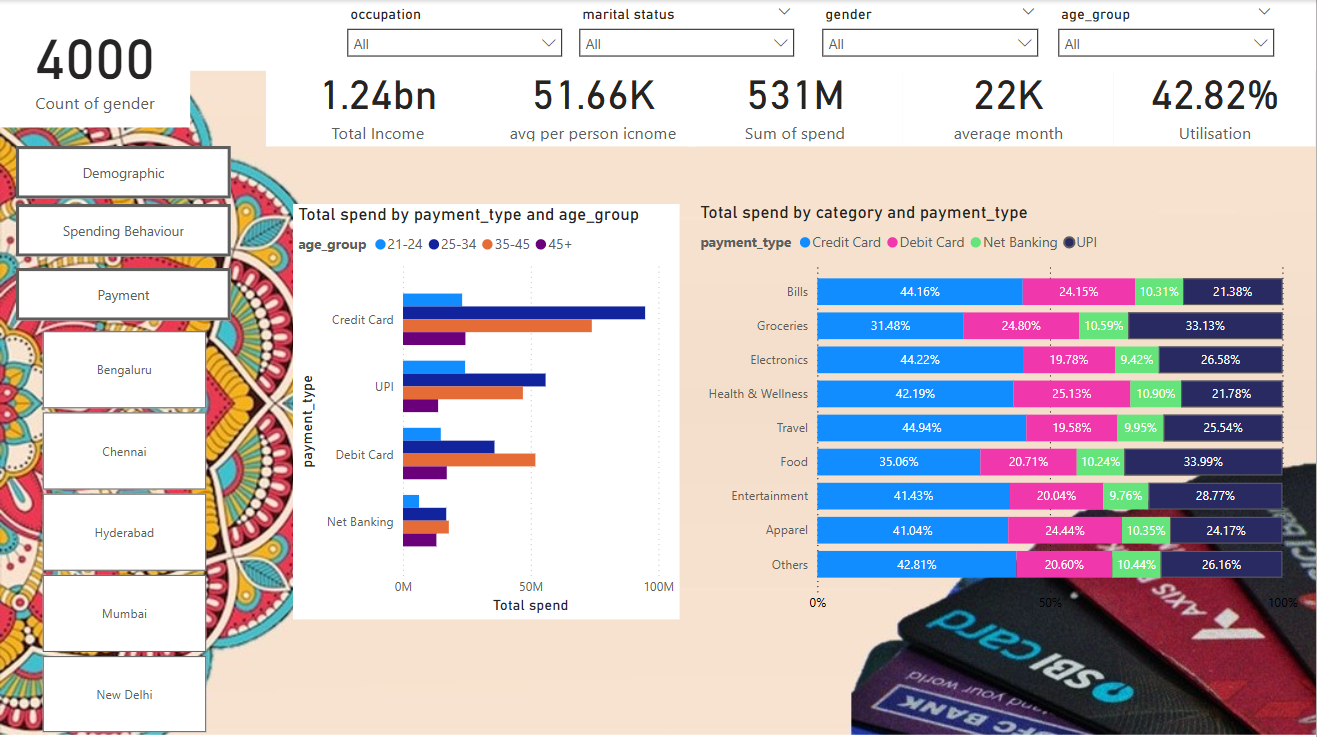

This screenshot's page, from the dashboard's own definition file:
{"tool":"powerbi","page":{"name":"Payment","canvas":[1280,720],"ordinal":2},"visuals":[{"type":"clusteredBarChart","fields":{"Category":["fact_spends.payment_type"],"Y":["merene.total spend of people"],"Series":["dim_customers.age_group"]},"box":[285,198.4,376.4,403.6],"z":14000},{"type":"hundredPercentStackedBarChart","fields":{"Category":["fact_spends.category","fact_spends.payment_type"],"Y":["merene.total spend of people"],"Series":["fact_spends.payment_type"]},"box":[676,196.5,591.4,408.5],"z":15000},{"type":"slicer","fields":{"Values":["dim_customers.city"]},"box":[15.6,315.6,208.9,404.4],"z":15001},{"type":"actionButton","box":[15.6,142.2,208.9,51.1],"z":15002},{"type":"actionButton","box":[15.6,198.9,208.9,51.1],"z":15003},{"type":"actionButton","box":[15.6,261.1,208.9,51.1],"z":15004},{"type":"card","fields":{"Values":["Sum(fact_spends.spend)"]},"box":[668.2,55.4,210.1,86.6],"z":15005},{"type":"card","fields":{"Values":["merene.avg per person icnome"]},"box":[476.6,55.4,200.4,86.6],"z":15006},{"type":"card","fields":{"Values":["merene.Total Income"]},"box":[258.7,55.4,217.9,86.6],"z":15007},{"type":"card","fields":{"Values":["merene.average month"]},"box":[878.3,55.4,205.2,86.6],"z":15008},{"type":"card","fields":{"Values":["merene.Measure"]},"box":[1083.5,55.4,196.5,86.6],"z":15009},{"type":"slicer","fields":{"Values":["dim_customers.age_group"]},"box":[1019.3,0,229.5,69.1],"z":15010},{"type":"slicer","fields":{"Values":["dim_customers.occupation"]},"box":[327.8,0,228.6,72.9],"z":15011},{"type":"slicer","fields":{"Values":["dim_customers.marital status"]},"box":[553.4,0,228.6,72.9],"z":15012},{"type":"slicer","fields":{"Values":["dim_customers.gender"]},"box":[789.8,0,229.5,69.1],"z":15013},{"type":"card","fields":{"Values":["CountNonNull(dim_customers.gender)"]},"box":[0,0,184.8,123.5],"z":15014}]}

Visuals, with their boxes in screenshot pixels (x1, y1, x2, y2), scaled from the page's 1280x720 canvas onto the 1317x737 screenshot:
clusteredBarChart - fact_spends.payment_type x merene.total spend of people: <bbox>293, 203, 681, 616</bbox>
hundredPercentStackedBarChart - fact_spends.category x fact_spends.payment_type: <bbox>696, 201, 1304, 619</bbox>
slicer - dim_customers.city: <bbox>16, 323, 231, 736</bbox>
actionButton: <bbox>16, 146, 231, 198</bbox>
actionButton: <bbox>16, 204, 231, 256</bbox>
actionButton: <bbox>16, 267, 231, 320</bbox>
card - Sum(fact_spends.spend): <bbox>688, 57, 904, 145</bbox>
card - merene.avg per person icnome: <bbox>490, 57, 697, 145</bbox>
card - merene.Total Income: <bbox>266, 57, 490, 145</bbox>
card - merene.average month: <bbox>904, 57, 1115, 145</bbox>
card - merene.Measure: <bbox>1115, 57, 1316, 145</bbox>
slicer - dim_customers.age_group: <bbox>1049, 0, 1285, 71</bbox>
slicer - dim_customers.occupation: <bbox>337, 0, 572, 75</bbox>
slicer - dim_customers.marital status: <bbox>569, 0, 805, 75</bbox>
slicer - dim_customers.gender: <bbox>813, 0, 1049, 71</bbox>
card - CountNonNull(dim_customers.gender): <bbox>0, 0, 190, 126</bbox>
